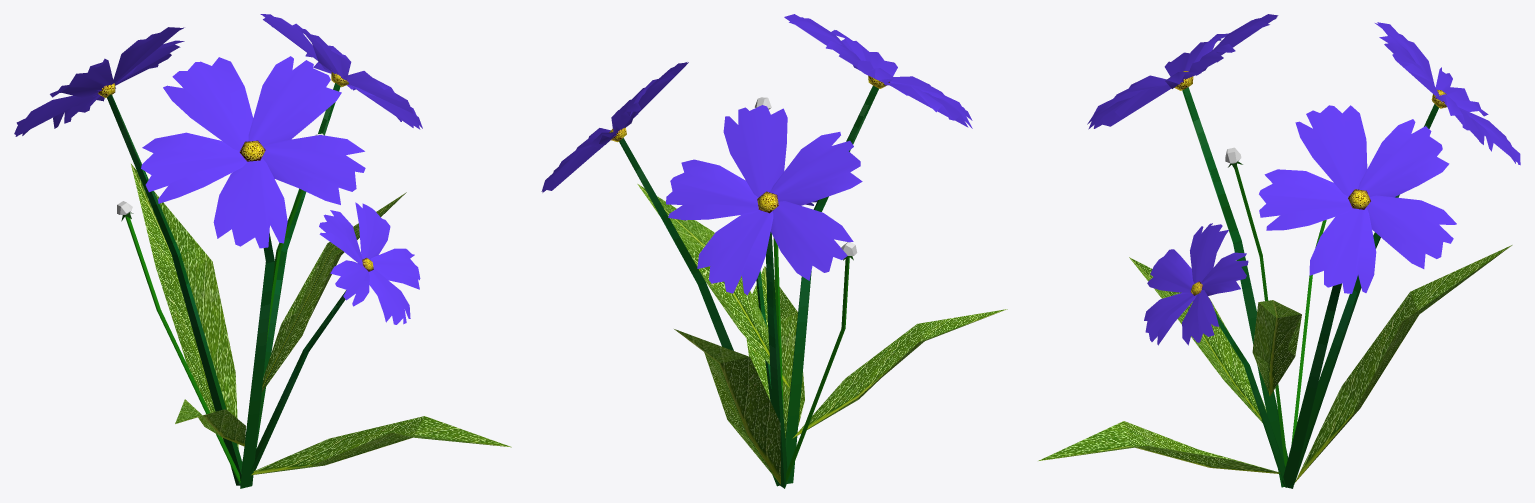
The model's file is flower_blue.glb.
3 renders of one model, left to right at view 1: azimuth 30°, elevation 25°; view 2: azimuth 150°, elevation 25°; view 3: azimuth 270°, elevation 25°, orthographic.
Parts seen in each view (by area): view 1: Circle.015; view 2: Circle.015; view 3: Circle.015.
Part boxes in pixels (x1=…): Circle.015: x1=14, y1=14, x2=511, y2=488; Circle.015: x1=541, y1=14, x2=1007, y2=488; Circle.015: x1=1038, y1=14, x2=1520, y2=488.
Bounding box in the file's own units: 1.44 × 1.77 × 1.74.
Materials: 7 (3 with a texture image).
